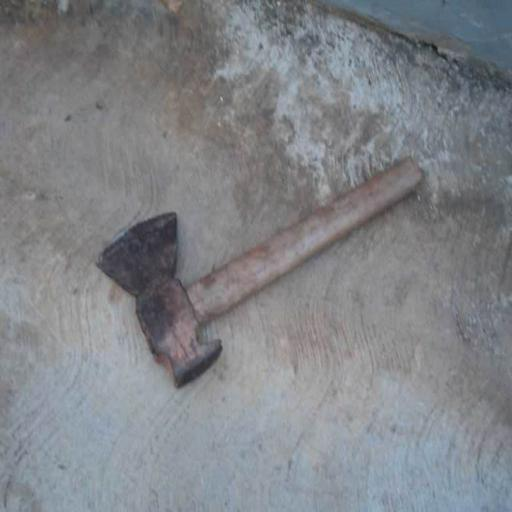Axe: (93, 176, 425, 388)
